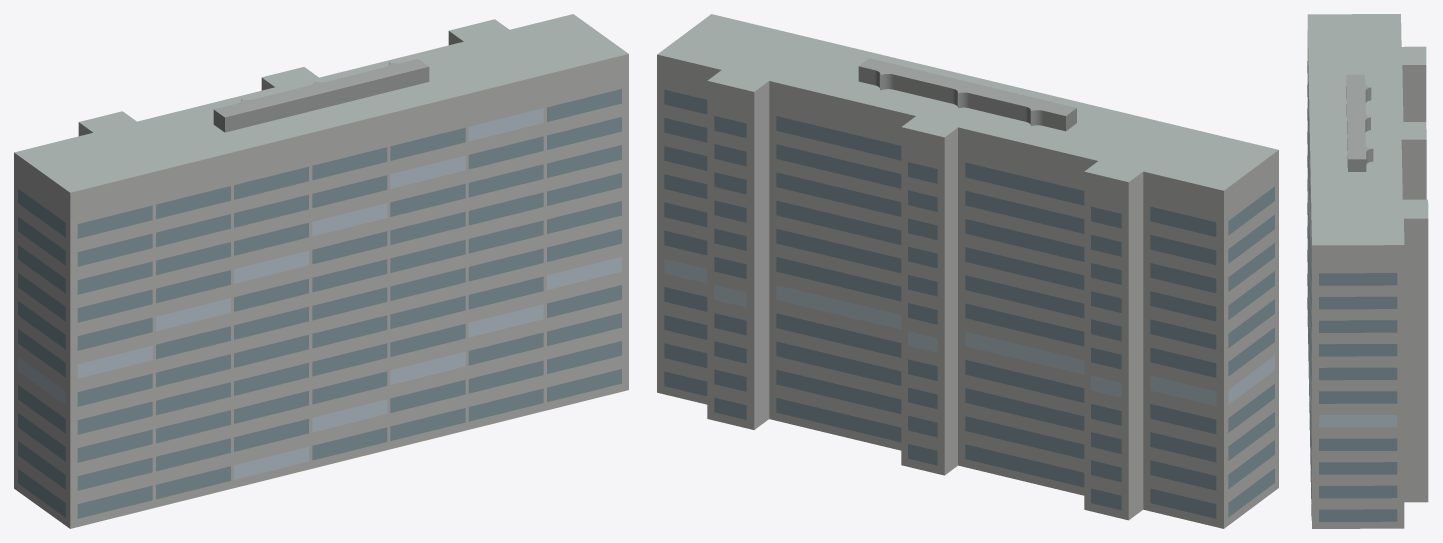
Rendered from fallback-godeok-ipark-extension-114.glb.
3 views of the same model, side by side, from view 1: azimuth 30°, elevation 25°; view 2: azimuth 150°, elevation 25°; view 3: azimuth 270°, elevation 25° (orthographic). The views are drawn at different scales.
Visible parts, largest first — view 1: fallback-godeok-ipark-extension-114; view 2: fallback-godeok-ipark-extension-114; view 3: fallback-godeok-ipark-extension-114.
Boxes of the visible parts, box(x1,y1,x2,y2) form: fallback-godeok-ipark-extension-114: box(14, 14, 628, 528); fallback-godeok-ipark-extension-114: box(657, 14, 1278, 528); fallback-godeok-ipark-extension-114: box(1307, 14, 1428, 528).
Bounding box in the file's own units: 64.13 × 38.25 × 14.22.
